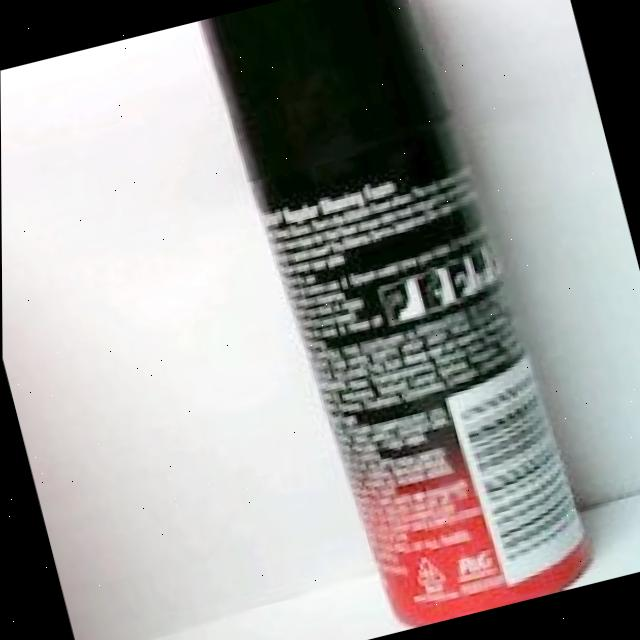gillette-foam: (195, 0, 595, 628)
